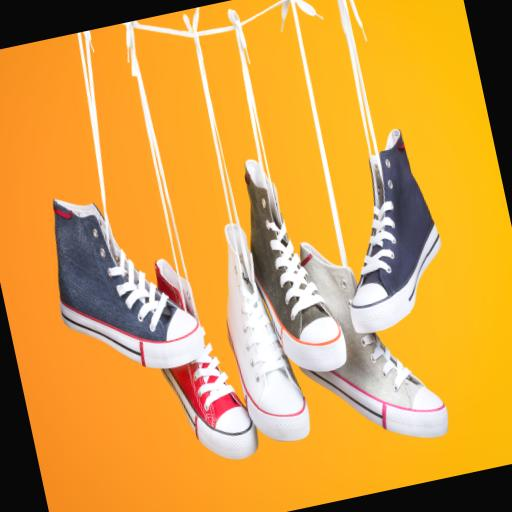shoe: (301, 243, 448, 437), (54, 200, 204, 368), (245, 160, 346, 371), (225, 224, 310, 441), (351, 129, 441, 332), (163, 344, 258, 459)
